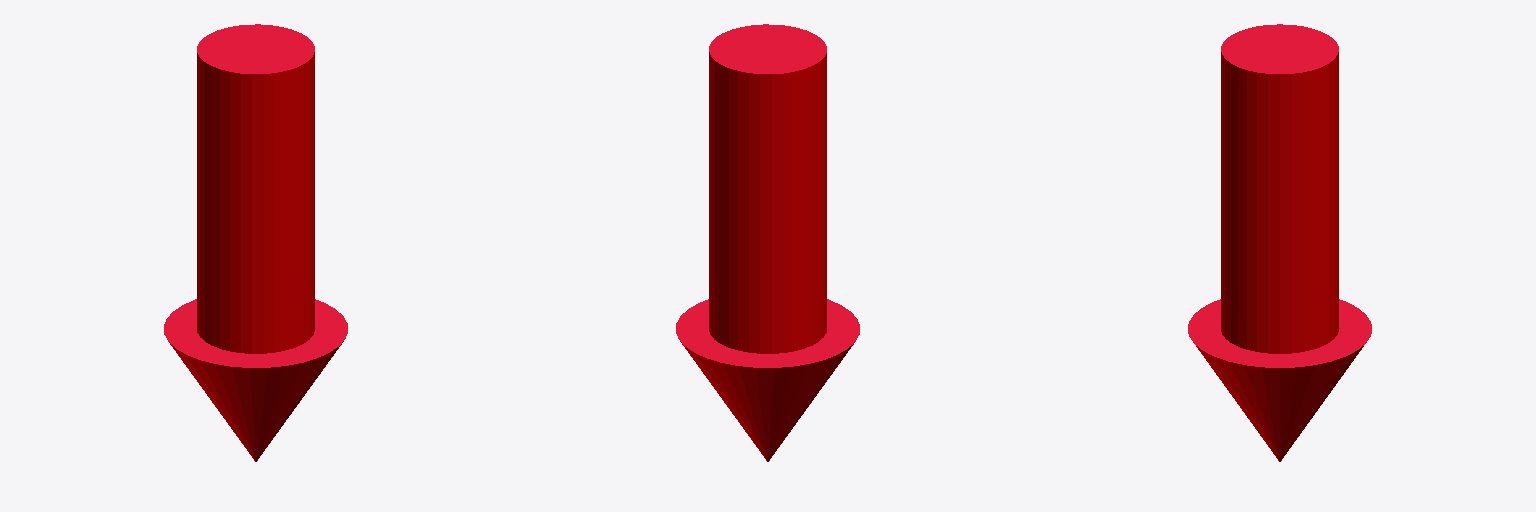
3 renders of one model, left to right at view 1: azimuth 30°, elevation 25°; view 2: azimuth 150°, elevation 25°; view 3: azimuth 270°, elevation 25°, orthographic.
Visible parts, largest first — view 1: Cone; view 2: Cone; view 3: Cone.
Part boxes in pixels (x1,y1,x2,y2): Cone: (164,24,347,461); Cone: (676,24,859,461); Cone: (1188,24,1371,461).
Size of the model in its own units: 0.8313 by 2.05 by 0.8313.
1 materials, 1 textured.